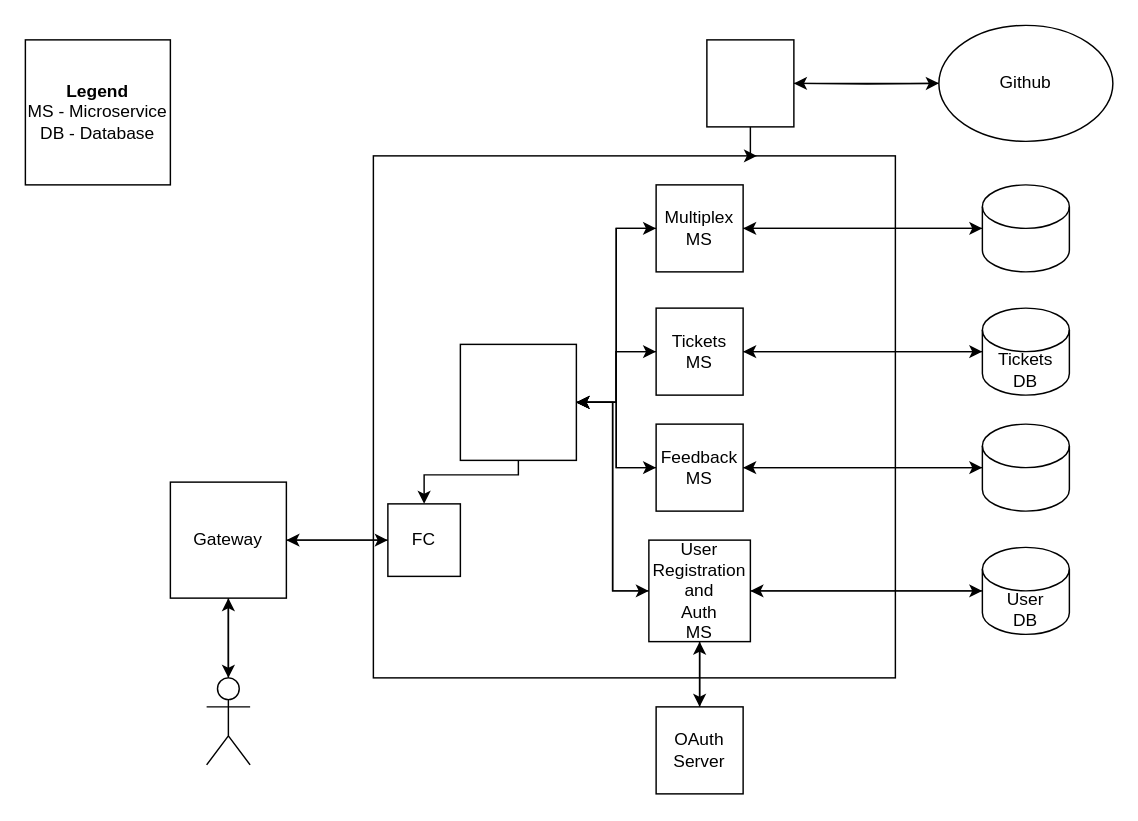
The diagram is 1138 pixels wide and 821 high, and some of its shapes have lost their labels. Here are the shapes that lost their labels. From the top down, the centre of each, then its label:
At point (749, 82): "Config Server".
At point (1025, 227): "Multiplex DB".
At point (517, 401): "Registry".
At point (1025, 467): "Feedback DB".
At point (227, 720): "Actor".
